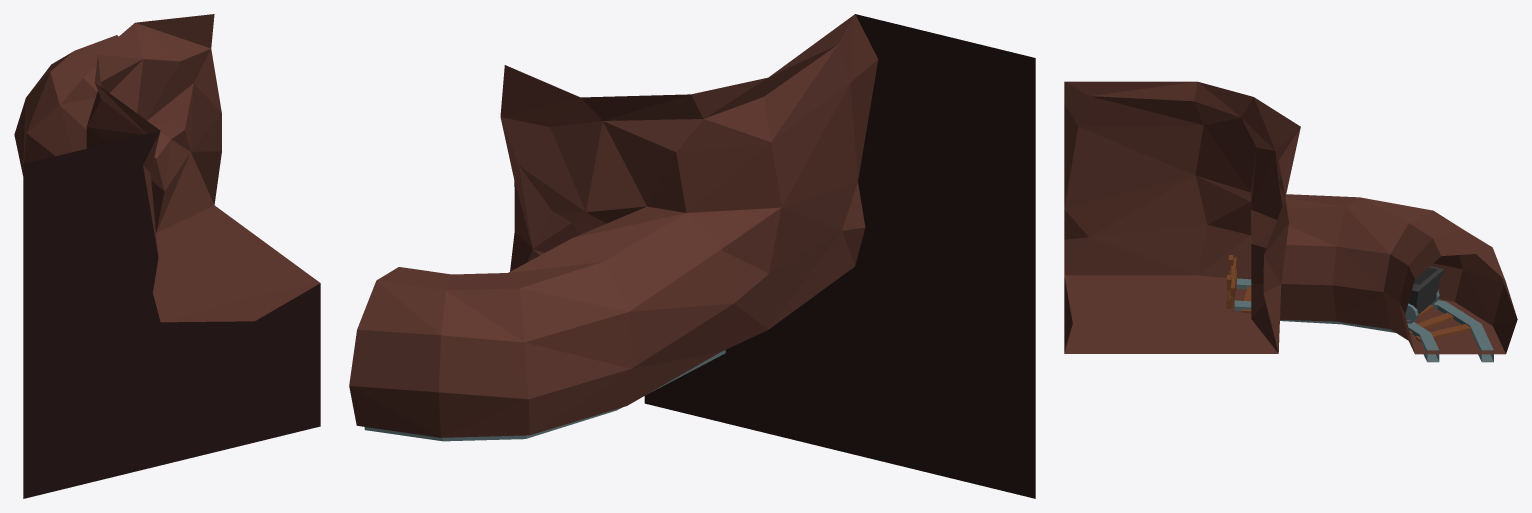
File: Block_DOWN_LEFT.fbx
3 renders of one model, left to right at view 1: azimuth 30°, elevation 25°; view 2: azimuth 150°, elevation 25°; view 3: azimuth 270°, elevation 25°, orthographic. The views are drawn at different scales.
Parts seen in each view (by area): view 1: Block_DOWN_LEFT; view 2: Block_DOWN_LEFT; view 3: Block_DOWN_LEFT.
Boxes of the visible parts, x1,y1,x2,y2 form: Block_DOWN_LEFT: (14,14,320,498); Block_DOWN_LEFT: (349,14,1035,498); Block_DOWN_LEFT: (1064,81,1517,362).
Size of the model in its own units: 13 by 14 by 17.
